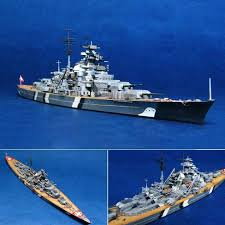tau_muctieu: (18, 46, 208, 120), (5, 156, 95, 225), (115, 165, 219, 219)
